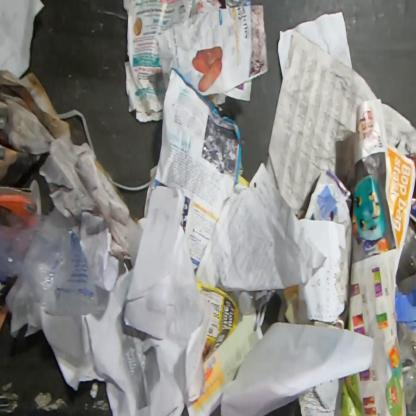cardboard: (0, 168, 56, 223), (395, 286, 415, 333)
rigid_plastic: (223, 288, 278, 316)
soft_plastic: (0, 213, 108, 318), (397, 321, 415, 415)
